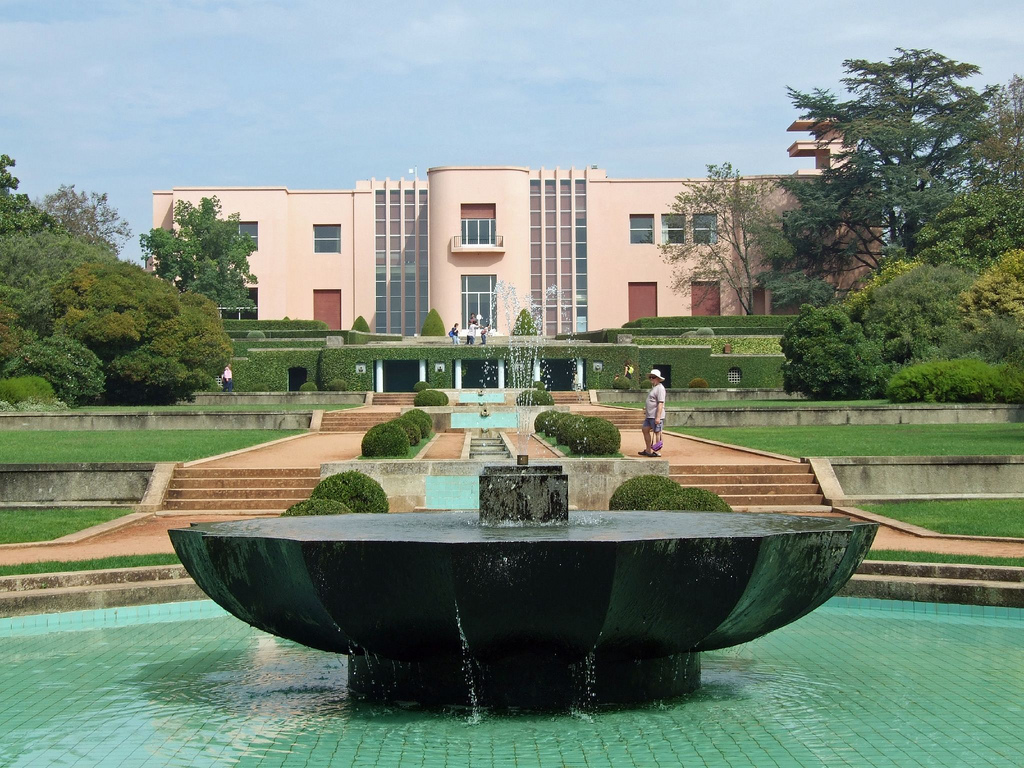serralves: (147, 101, 891, 332)
